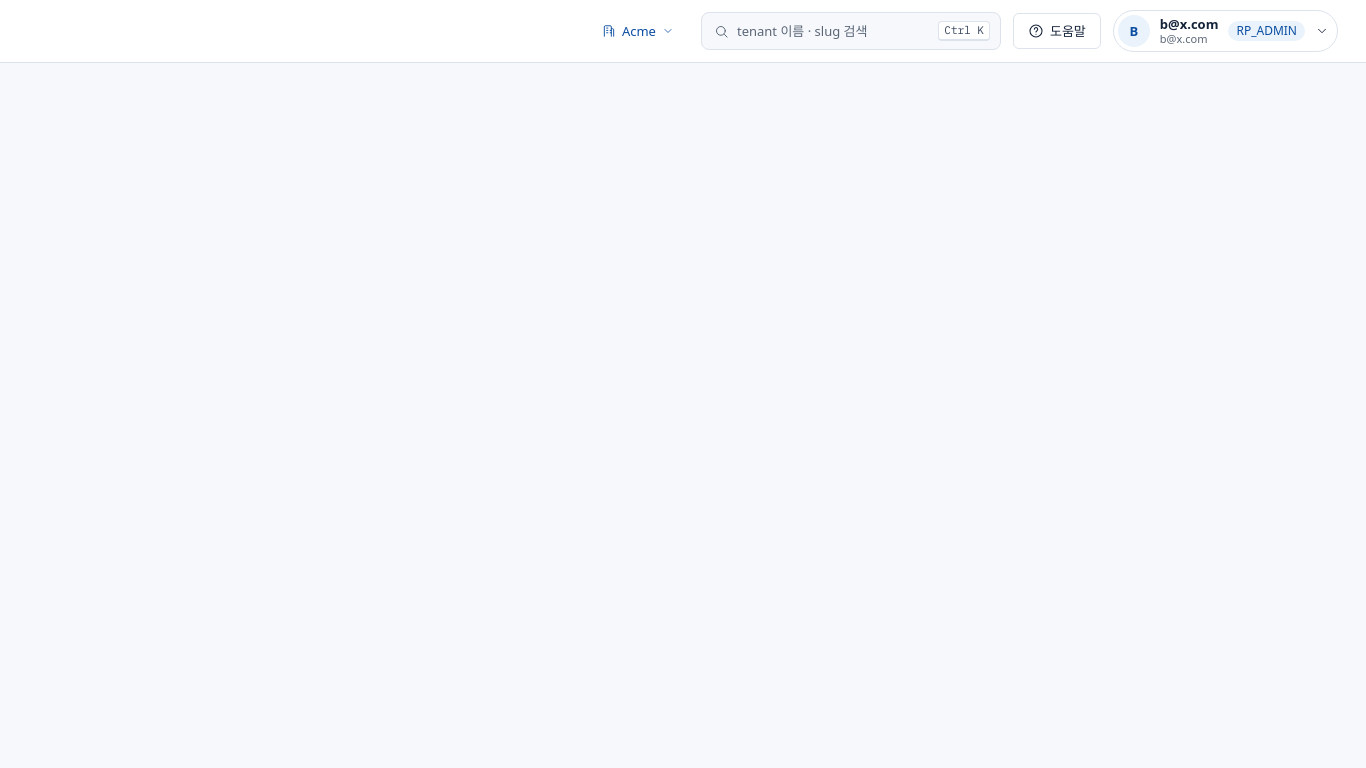
Test case: Header V3 › RP 전환이 실패하면 오류 토스트를 띄우고 화면은 그대로 둔다
Step 1. Click the button "Acme" → {"x": 638, "y": 31}, box x1=587 y1=13 x2=689 y2=49
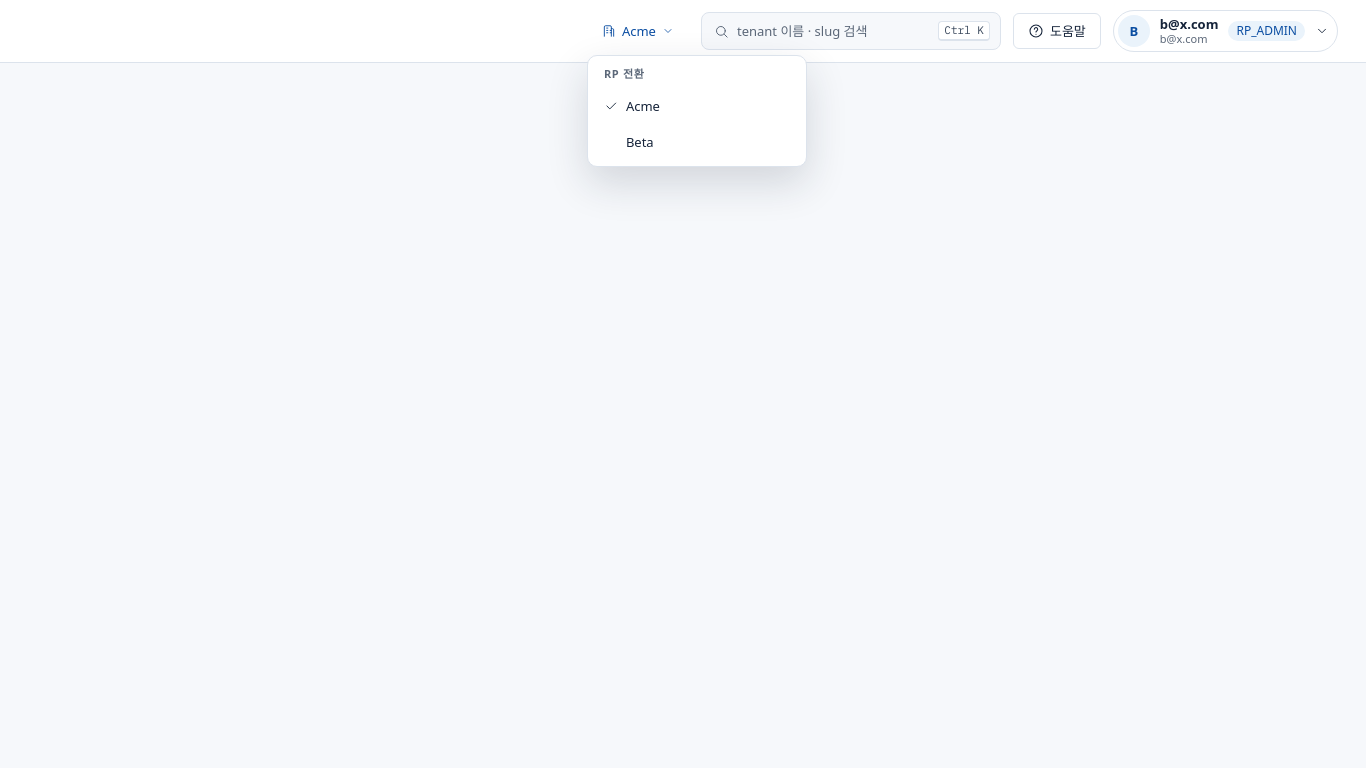
Step 2. Click the menu item "Beta" → {"x": 697, "y": 142}, box x1=594 y1=124 x2=800 y2=160
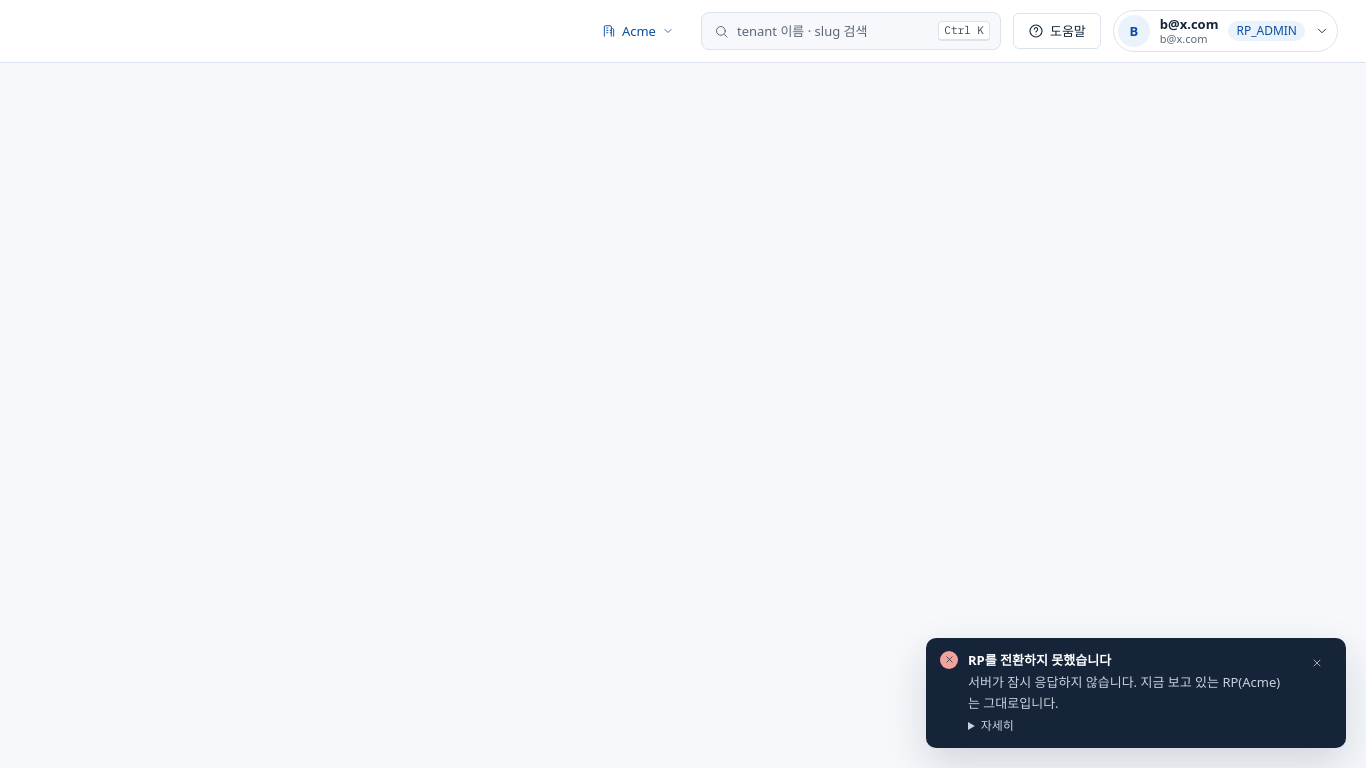
Check: the message shows "RP를 전환하지 못했습니다", box x1=968 y1=651 x2=1111 y2=669
Check: the message shows "서버가 잠시 응답하지 않습니다", box x1=968 y1=673 x2=1280 y2=712
Check: the message shows "Acme", box x1=968 y1=673 x2=1280 y2=712
